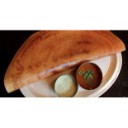dosa: (4, 30, 128, 81)
